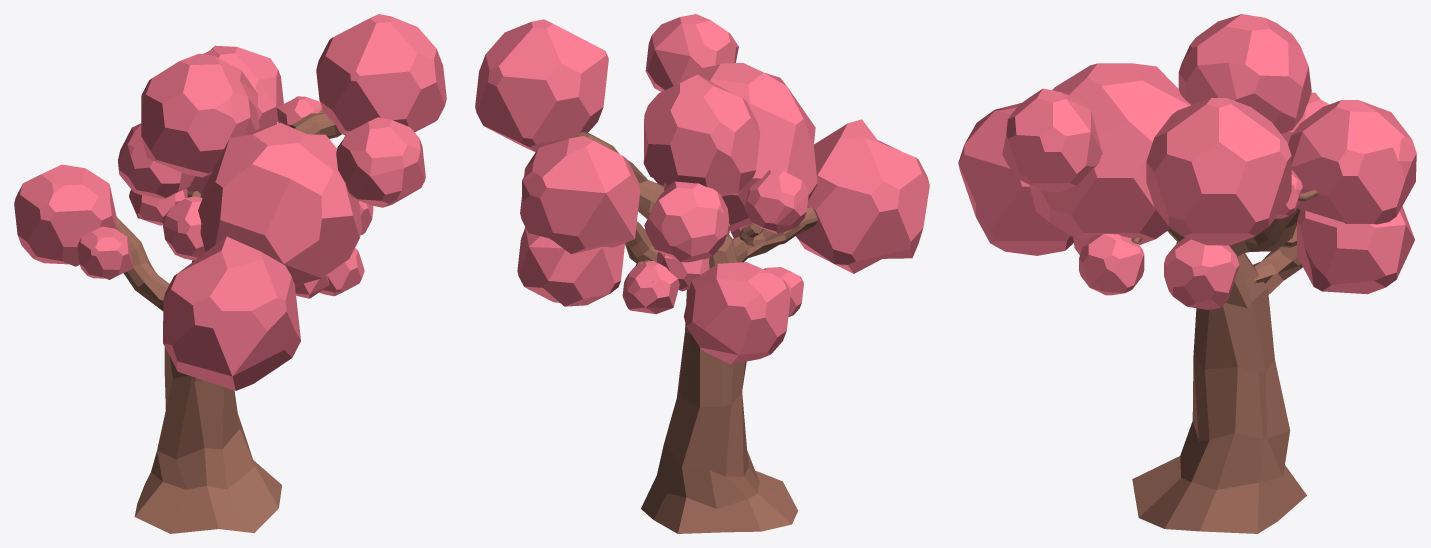
File: cherry_blossom-v1.glb
The picture shows the model from 3 angles, left to right: view 1: azimuth 30°, elevation 25°; view 2: azimuth 150°, elevation 25°; view 3: azimuth 270°, elevation 25°; orthographic projection. The views are drawn at different scales.
Visible parts, largest first — view 1: pine_tree, Icosphere.023, Icosphere.031, Icosphere.033, Icosphere.024, Icosphere.021, Icosphere.032, Icosphere.022, Icosphere.016, Icosphere.018, Icosphere.026, Icosphere.028 (+2 smaller); view 2: pine_tree, Icosphere.031, Icosphere.033, Icosphere.016, Icosphere.024, Icosphere.021, Icosphere.023, Icosphere.025, Icosphere.022, Icosphere.032, Icosphere.026, Icosphere.034 (+2 smaller); view 3: pine_tree, Icosphere.033, Icosphere.023, Icosphere.016, Icosphere.024, Icosphere.031, Icosphere.032, Icosphere.025, Icosphere.027, Icosphere.028, Icosphere.019.
Part boxes in pixels (box(x1,y1,x2,y2)): pine_tree: box(115, 110, 341, 533); Icosphere.023: box(198, 122, 362, 285); Icosphere.031: box(163, 236, 300, 390); Icosphere.033: box(316, 14, 446, 134); Icosphere.024: box(141, 53, 259, 177); Icosphere.021: box(14, 164, 117, 266); Icosphere.032: box(336, 117, 425, 207); Icosphere.022: box(118, 123, 194, 199); Icosphere.016: box(203, 45, 283, 128); Icosphere.018: box(77, 226, 133, 279); Icosphere.026: box(163, 196, 205, 260); Icosphere.028: box(319, 248, 364, 296); pine_tree: box(574, 132, 817, 533); Icosphere.031: box(795, 119, 929, 273); Icosphere.033: box(475, 19, 608, 152); Icosphere.016: box(520, 136, 640, 253); Icosphere.024: box(643, 74, 760, 196); Icosphere.021: box(684, 262, 790, 364); Icosphere.023: box(654, 63, 817, 231); Icosphere.025: box(517, 227, 624, 306); Icosphere.022: box(644, 181, 728, 262); Icosphere.032: box(645, 14, 738, 91); Icosphere.026: box(744, 168, 808, 233); Icosphere.034: box(622, 261, 679, 314); pine_tree: box(1102, 153, 1317, 533); Icosphere.033: box(1146, 98, 1291, 245); Icosphere.023: box(1029, 63, 1191, 244); Icosphere.016: box(1288, 100, 1416, 224); Icosphere.024: box(1178, 14, 1311, 133); Icosphere.031: box(958, 103, 1073, 255); Icosphere.032: box(1002, 88, 1102, 191); Icosphere.025: box(1297, 206, 1414, 294); Icosphere.027: box(1164, 237, 1239, 309); Icosphere.028: box(1079, 234, 1144, 295); Icosphere.019: box(1275, 170, 1302, 218).
Size of the model in its own units: 0.6197 by 0.7517 by 0.6189.
